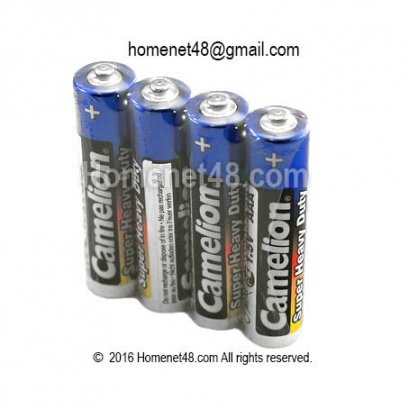Battery: (242, 101, 314, 351), (71, 58, 137, 300), (187, 84, 251, 332), (128, 69, 192, 316)
